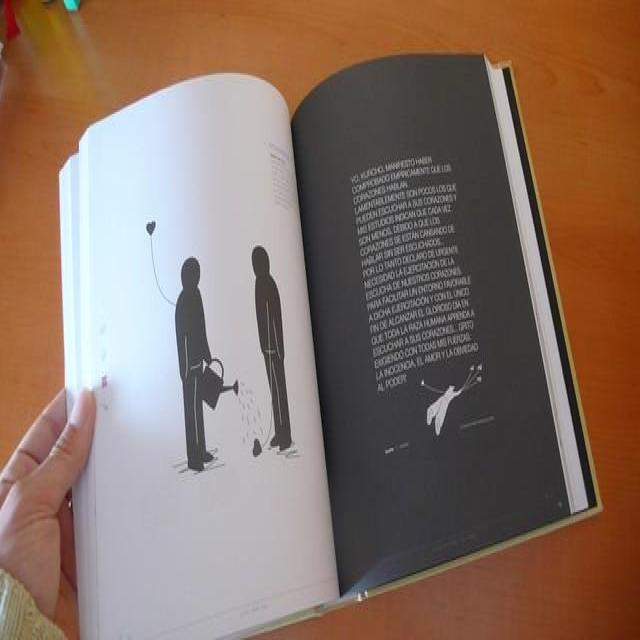paper: (57, 51, 601, 640)
